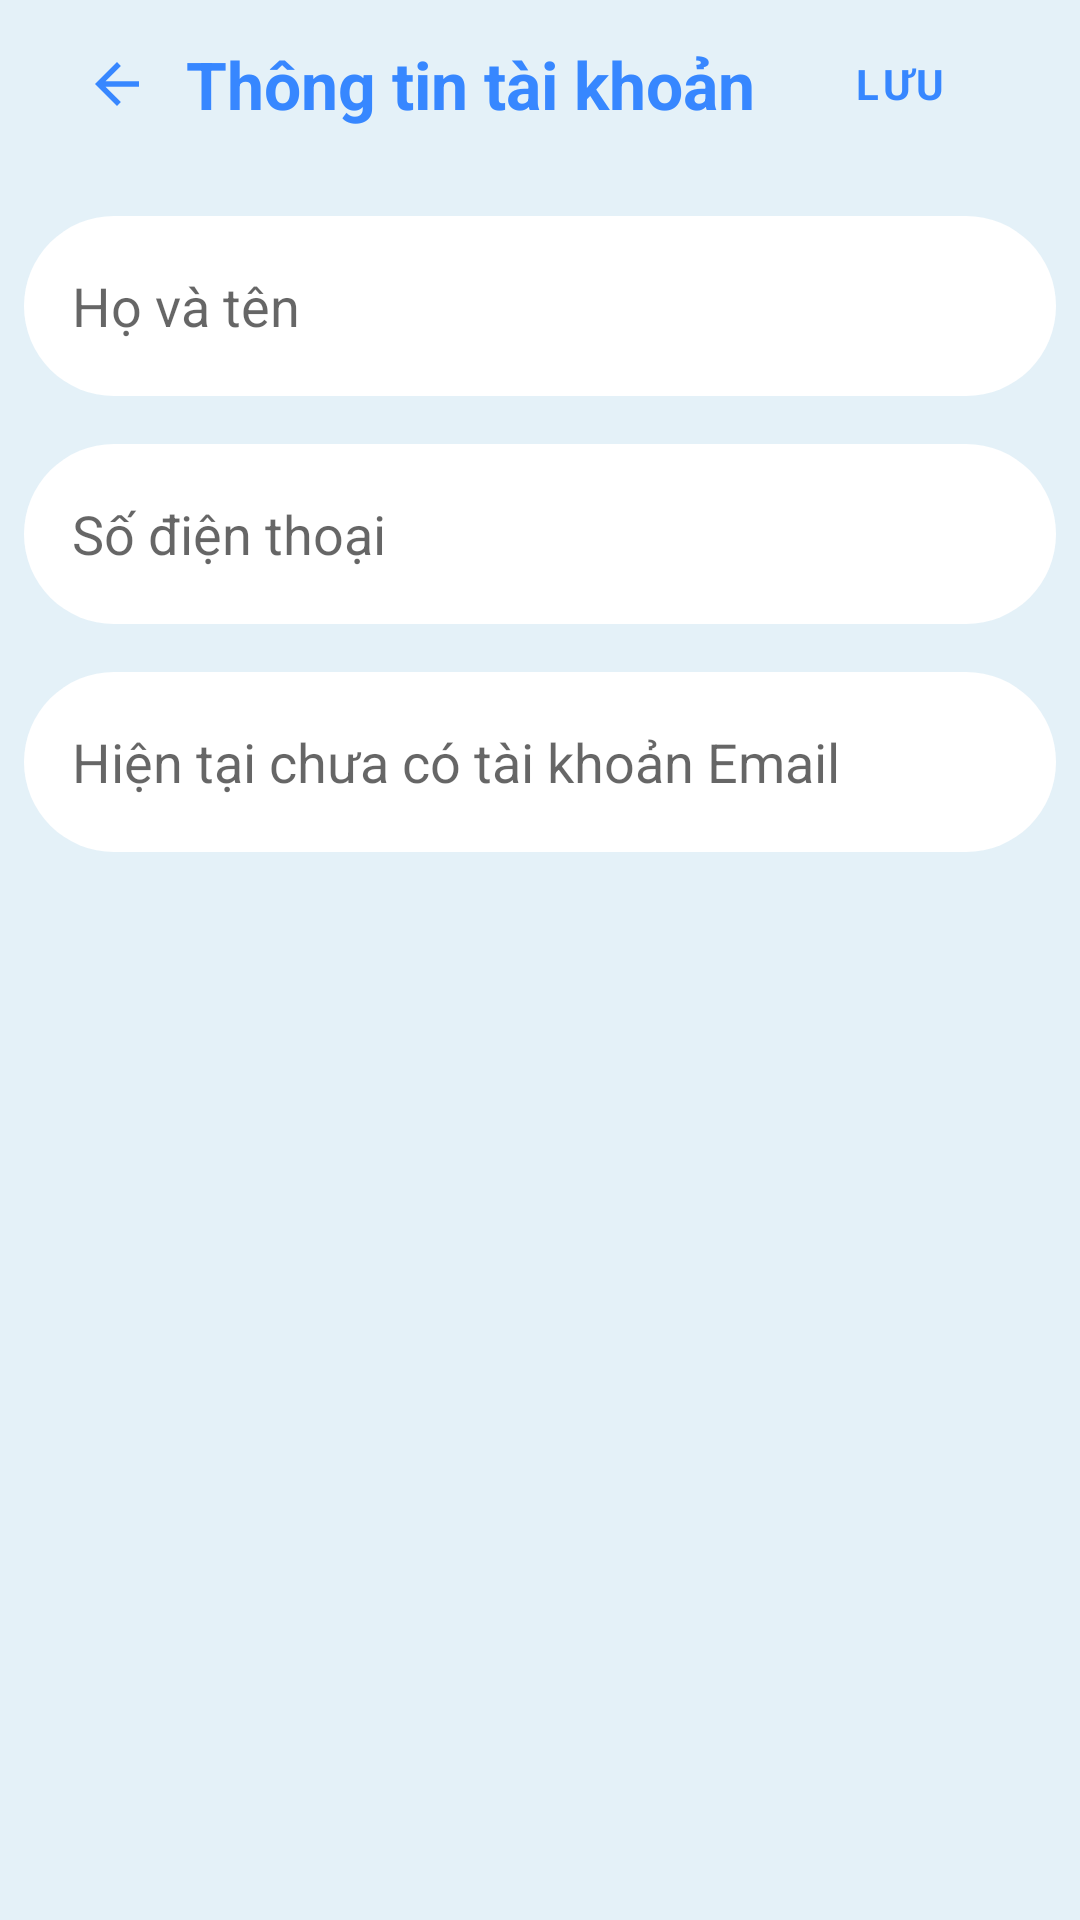

Icons on this 1080*1920 Android screen, each with the point to tap as point (x, y):
arrow back: point (117, 84)
